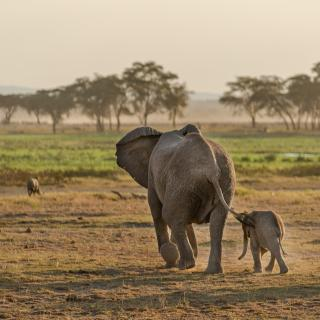Elephant: (113, 122, 243, 276), (237, 209, 296, 280)
